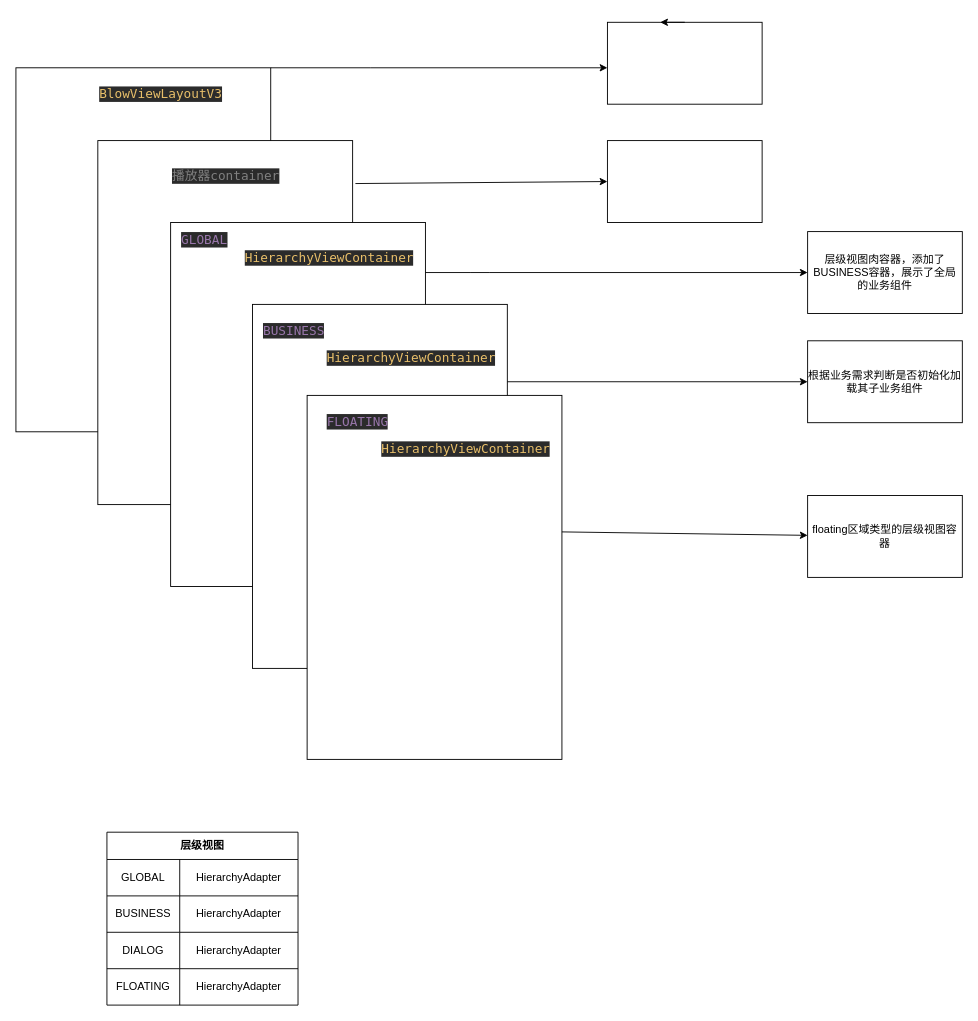
Image size: 978x1021. Some labels were removed from this diagram. Here are the shapes that lost their labels. From the top down, the centre of each, then its label:
At pixel 684 62: "根布局，继承自FrameLayout".
At pixel 684 181: "播放器容器viewGroup".
